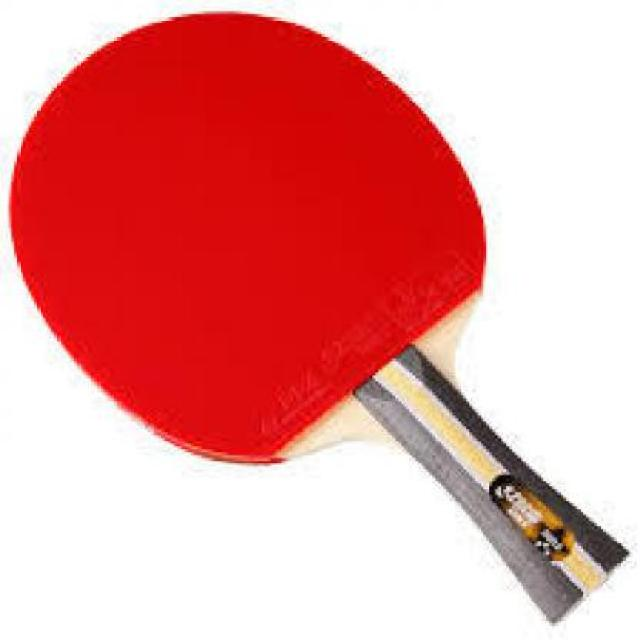table_tennis_racket: (0, 0, 497, 471)
